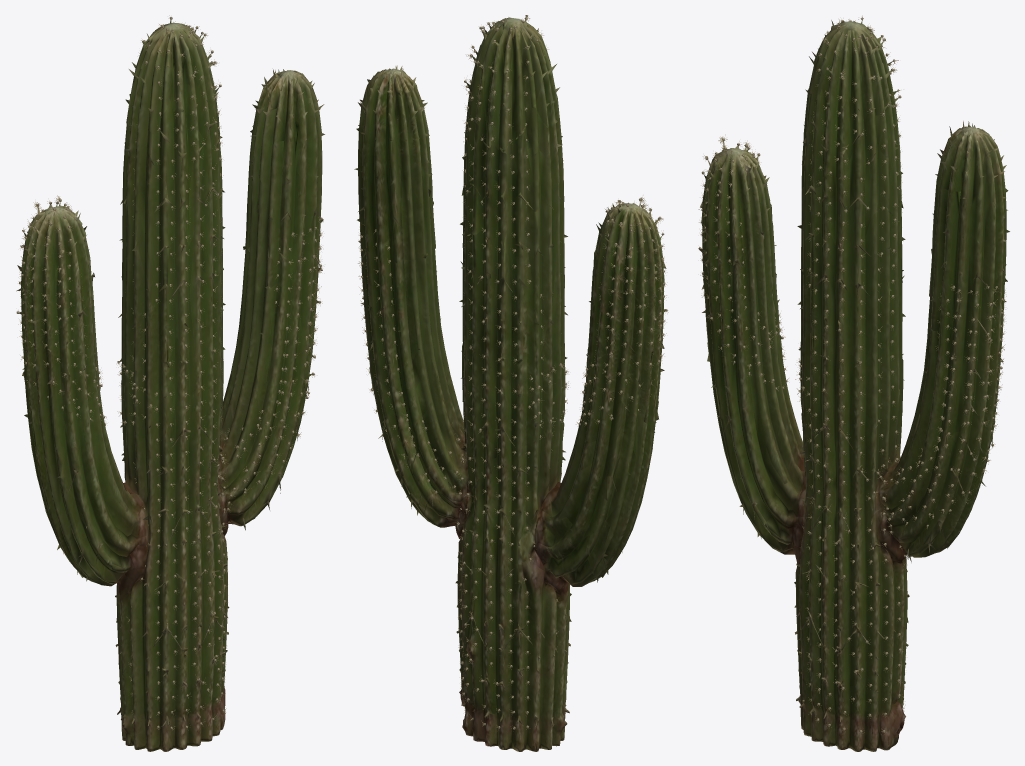
Rendered from saguaro_graft.glb.
The picture shows the model from 3 angles, left to right: view 1: azimuth 30°, elevation 25°; view 2: azimuth 150°, elevation 25°; view 3: azimuth 330°, elevation 25°; orthographic projection.
Parts seen in each view (by area): view 1: saguaroTripoSurface0, RadialAndCentralSpines, WoollyAreoles; view 2: saguaroTripoSurface0, WoollyAreoles, RadialAndCentralSpines; view 3: saguaroTripoSurface0, WoollyAreoles, RadialAndCentralSpines.
Part boxes in pixels (bbox=[...]): saguaroTripoSurface0: bbox=[16, 20, 324, 751]; RadialAndCentralSpines: bbox=[16, 15, 323, 730]; WoollyAreoles: bbox=[16, 17, 322, 729]; saguaroTripoSurface0: bbox=[354, 15, 667, 751]; WoollyAreoles: bbox=[361, 15, 667, 729]; RadialAndCentralSpines: bbox=[358, 17, 668, 729]; saguaroTripoSurface0: bbox=[698, 20, 1009, 751]; WoollyAreoles: bbox=[698, 17, 1003, 732]; RadialAndCentralSpines: bbox=[698, 15, 1006, 733].
Size of the model in its own units: 2.49 by 5.61 by 0.6712.
3 materials, 1 textured.
